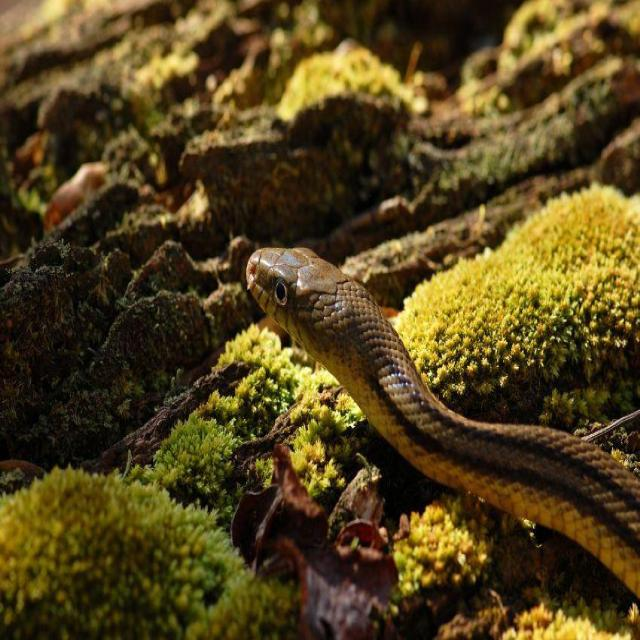Snake: (244, 242, 638, 606)
